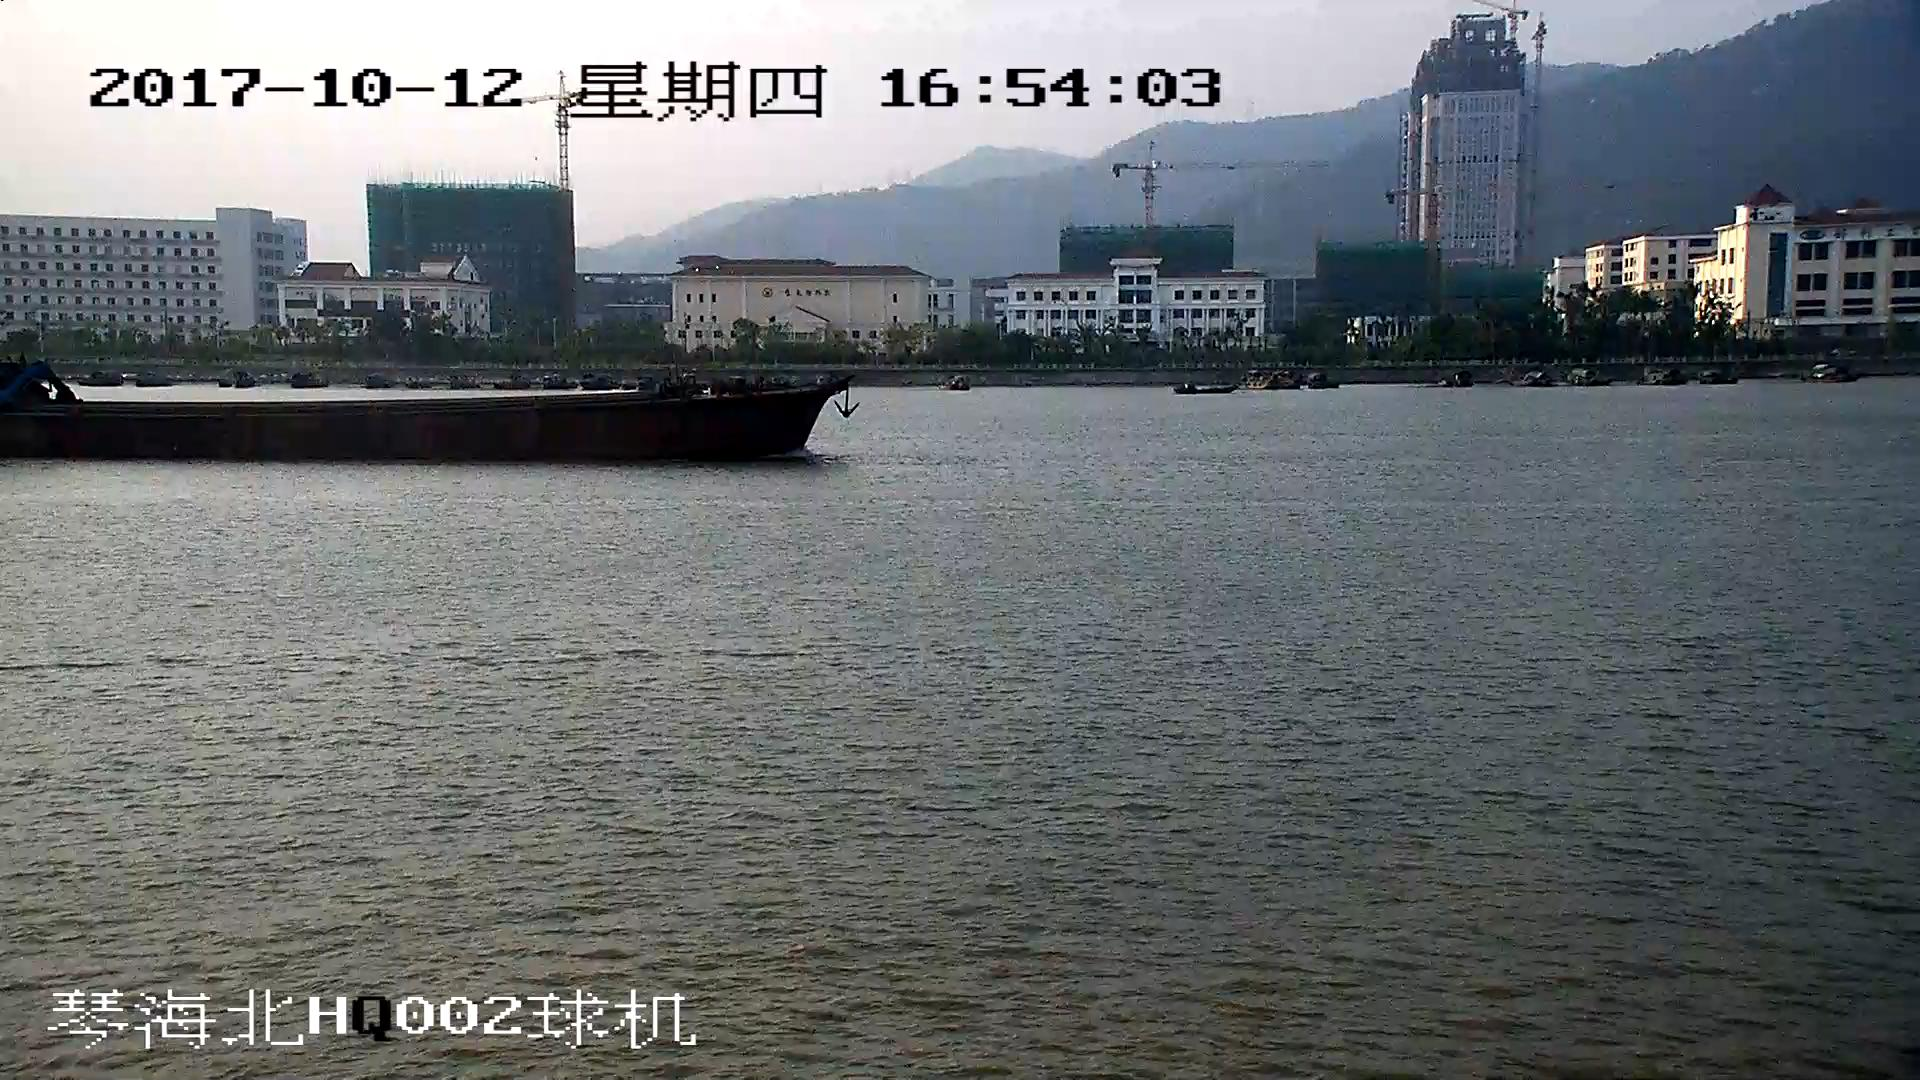bulk cargo carrier: (1, 356, 848, 452)
